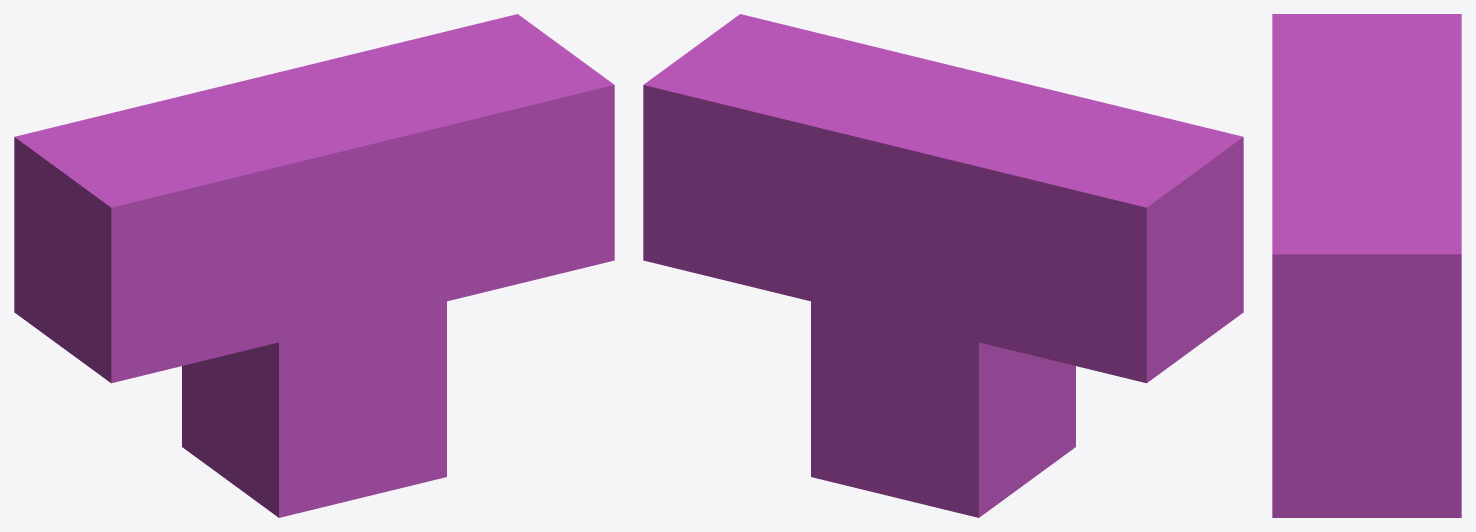
The picture shows the model from 3 angles, left to right: view 1: azimuth 30°, elevation 25°; view 2: azimuth 150°, elevation 25°; view 3: azimuth 270°, elevation 25°; orthographic projection. The views are drawn at different scales.
Parts seen in each view (by area): view 1: t; view 2: t; view 3: t.
Boxes of the visible parts, x1,y1,x2,y2 form: t: [14, 14, 614, 517]; t: [643, 14, 1243, 517]; t: [1272, 14, 1461, 517].
Size of the model in its own units: 1.5 by 1 by 0.5.
